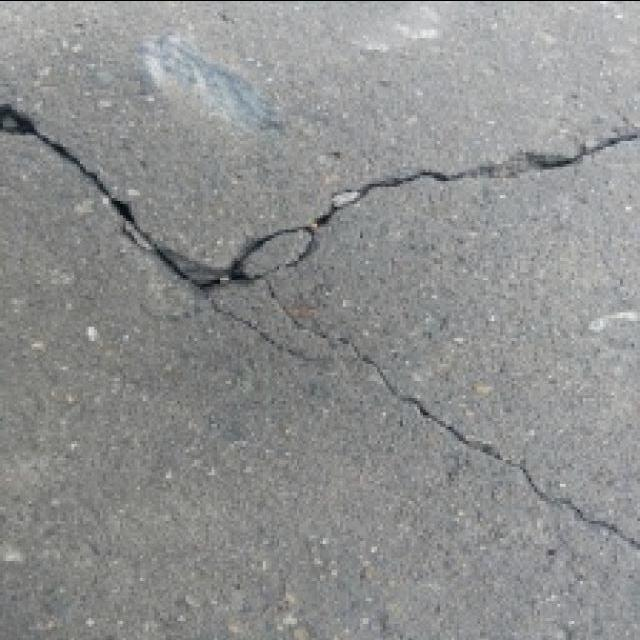SurfaceCrack: (256, 294, 640, 558)
